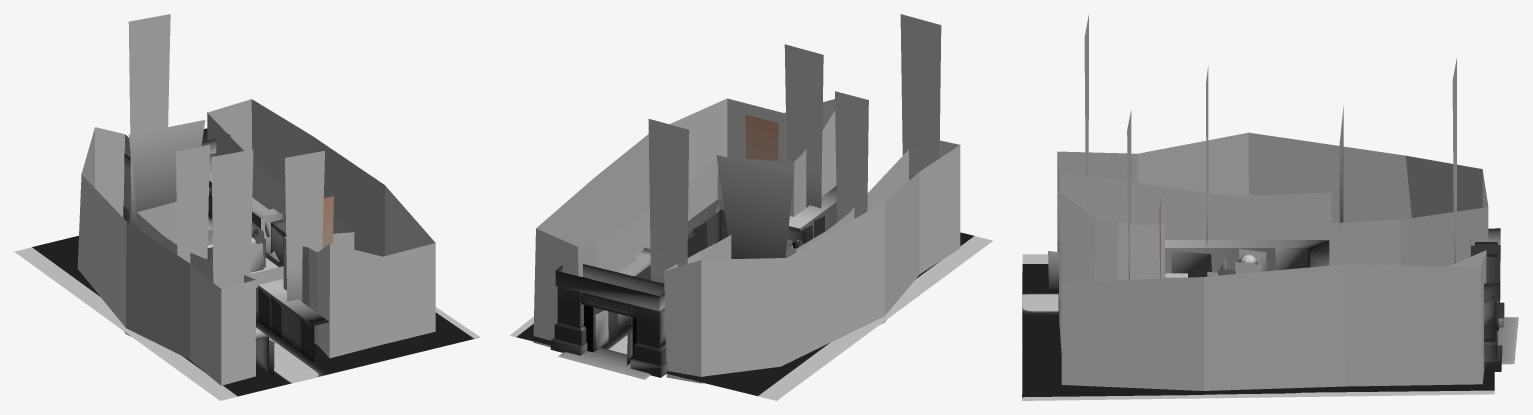
File: cgc_connector2.fbx
3 renders of one model, left to right at view 1: azimuth 30°, elevation 25°; view 2: azimuth 150°, elevation 25°; view 3: azimuth 270°, elevation 25°, orthographic. The views are drawn at different scales.
Visible parts, largest first — view 1: hedge1, groundshadow2, pPlane46, pPlane53, groundshadow1, pPlane41, tree_29, pPlane50, pCube136, polySurface25, pPlane3, pCube137 (+2 smaller); view 2: hedge1, tree_29, pPlane53, pPlane46, pPlane41, groundshadow1, pPlane50, pCube131, groundshadow2, pCube136, rooftower_3, rooftower_4 (+7 smaller); view 3: hedge1, groundshadow2, groundshadow1, pCube137, pPlane174, pCube131, rooftower_4, SeemPatch, pPlane53, pPlane46, pPlane207, pPlane41 (+3 smaller).
Boxes of the visible parts, x1,y1,x2,y2 form: hedge1: (77, 99, 435, 385); groundshadow2: (32, 235, 473, 396); pPlane46: (211, 149, 253, 288); pPlane53: (128, 14, 170, 227); groundshadow1: (14, 247, 480, 400); pPlane41: (285, 150, 324, 301); tree_29: (128, 120, 205, 211); pPlane50: (176, 144, 209, 263); pCube136: (258, 219, 329, 362); polySurface25: (208, 181, 282, 254); pPlane3: (322, 196, 333, 248); pCube137: (255, 327, 268, 373); hedge1: (533, 98, 960, 383); tree_29: (716, 155, 793, 258); pPlane53: (648, 119, 689, 283); pPlane46: (900, 14, 941, 180); pPlane41: (784, 44, 823, 208); groundshadow1: (509, 236, 992, 400); pPlane50: (835, 91, 868, 222); pCube131: (555, 264, 664, 311); groundshadow2: (516, 232, 973, 395); pCube136: (688, 186, 836, 247); rooftower_3: (581, 292, 666, 365); rooftower_4: (554, 277, 590, 345); hedge1: (1057, 132, 1488, 390); groundshadow2: (1022, 264, 1494, 397); groundshadow1: (1022, 254, 1494, 400); pCube137: (1058, 240, 1327, 273); pPlane174: (1171, 250, 1211, 277); pCube131: (1470, 228, 1500, 300); rooftower_4: (1484, 296, 1497, 360); SeemPatch: (1497, 317, 1518, 364); pPlane53: (1452, 58, 1456, 263); pPlane46: (1084, 14, 1088, 211); pPlane207: (1275, 246, 1305, 269); pPlane41: (1127, 110, 1131, 279).
Size of what is drawn, in the model's own units: 92.37 by 75.44 by 131.
